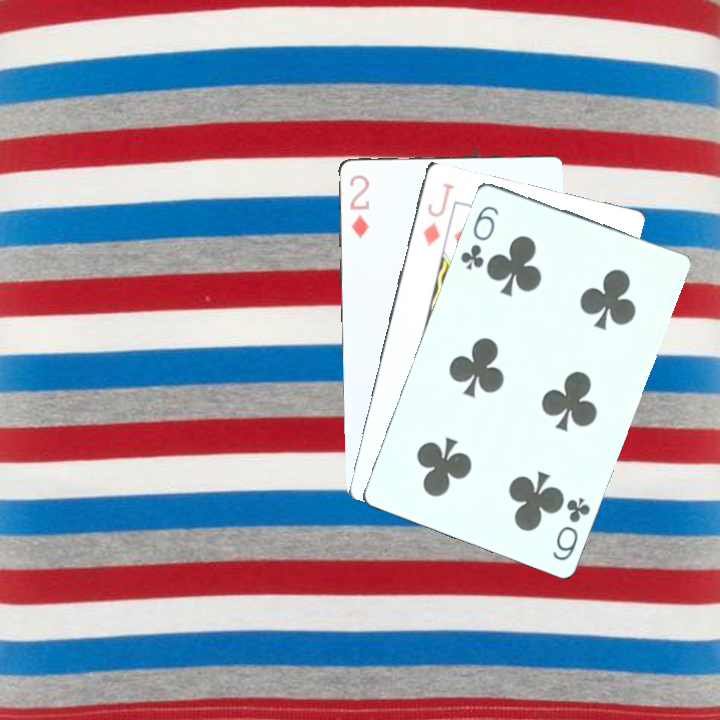2d: (345, 171, 372, 241)
6c: (456, 201, 502, 272), (548, 493, 593, 564)
Jd: (418, 179, 457, 249)
